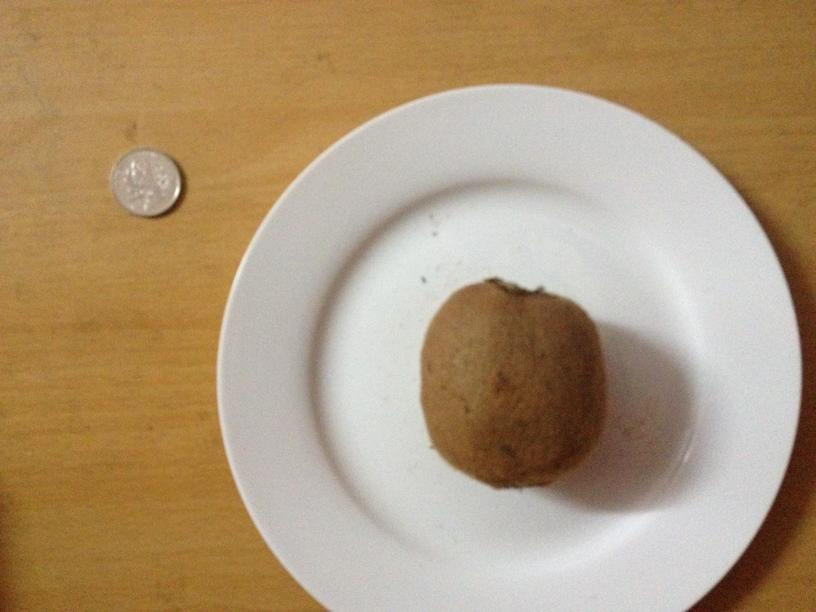coin: (108, 151, 183, 218)
qiwi: (422, 280, 603, 488)
